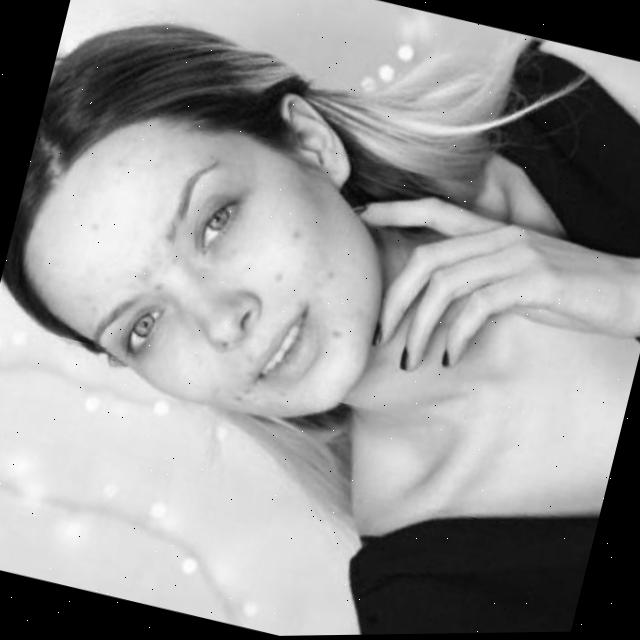Acne: (223, 220, 376, 438)
